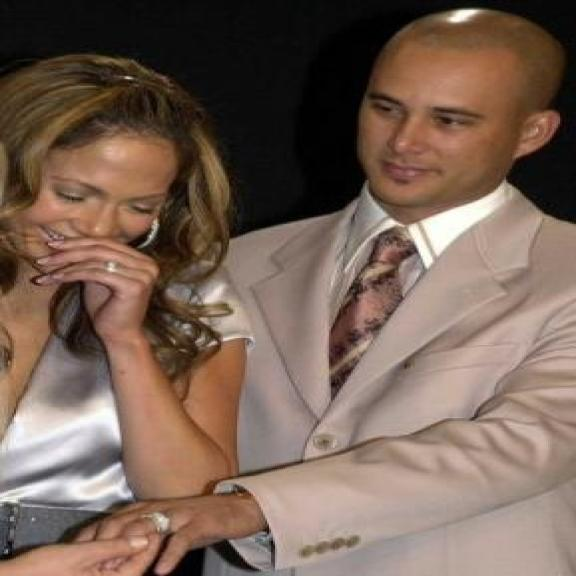face: (352, 9, 565, 210), (2, 108, 180, 286)
